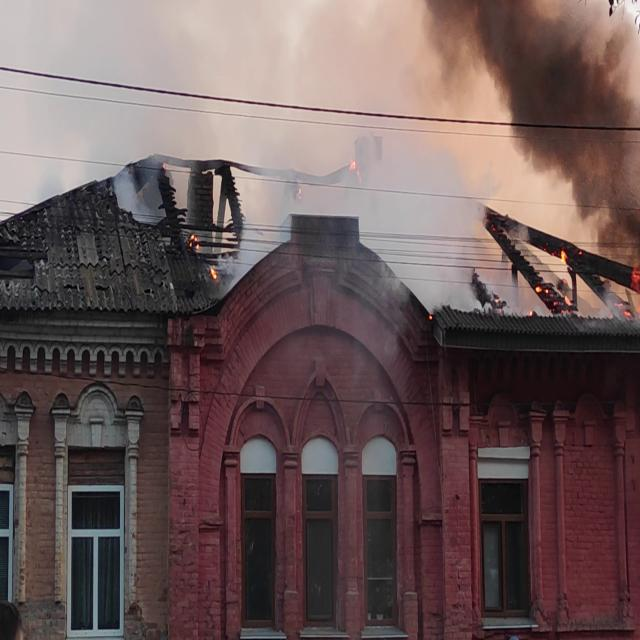smoke: (493, 0, 604, 188), (438, 168, 517, 288)
